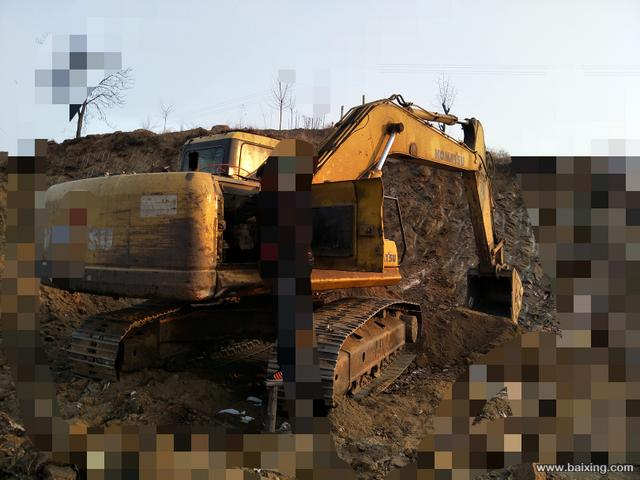excavator: (23, 98, 527, 400)
